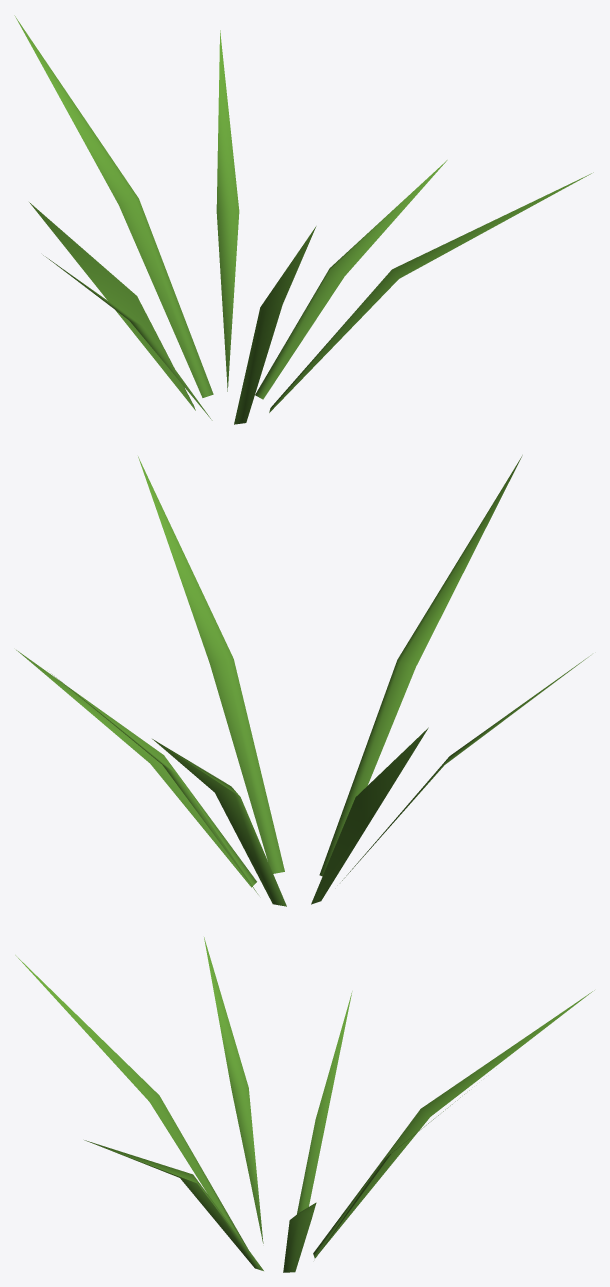
Rendered from grass-tuft.glb.
The picture shows the model from 3 angles, top to bottom: view 1: azimuth 30°, elevation 25°; view 2: azimuth 150°, elevation 25°; view 3: azimuth 270°, elevation 25°; orthographic projection. The views are drawn at different scales.
Parts seen in each view (by area): view 1: Grass tuft Grass; view 2: Grass tuft Grass; view 3: Grass tuft Grass.
Part boxes in pixels (bbox=[...]): Grass tuft Grass: bbox=[14, 15, 593, 424]; Grass tuft Grass: bbox=[16, 455, 590, 906]; Grass tuft Grass: bbox=[15, 937, 594, 1272].
Bounding box in the file's own units: 0.4886 × 0.2938 × 0.559.
